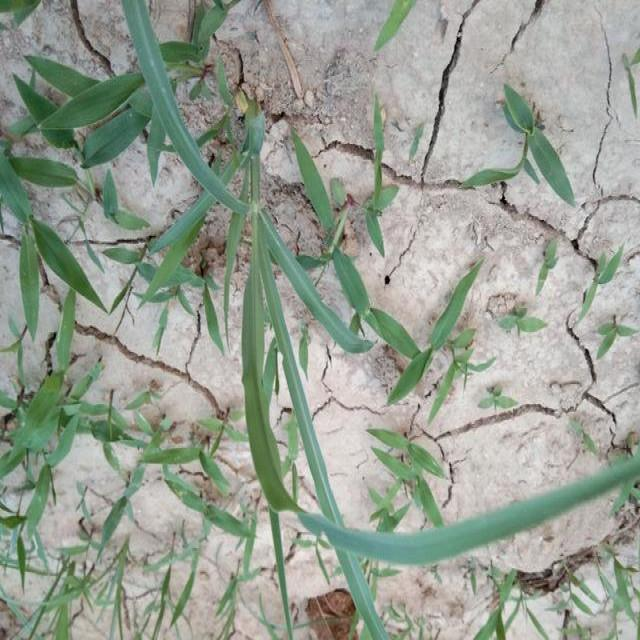weed: (114, 14, 640, 640), (0, 188, 134, 640), (34, 48, 157, 188)
